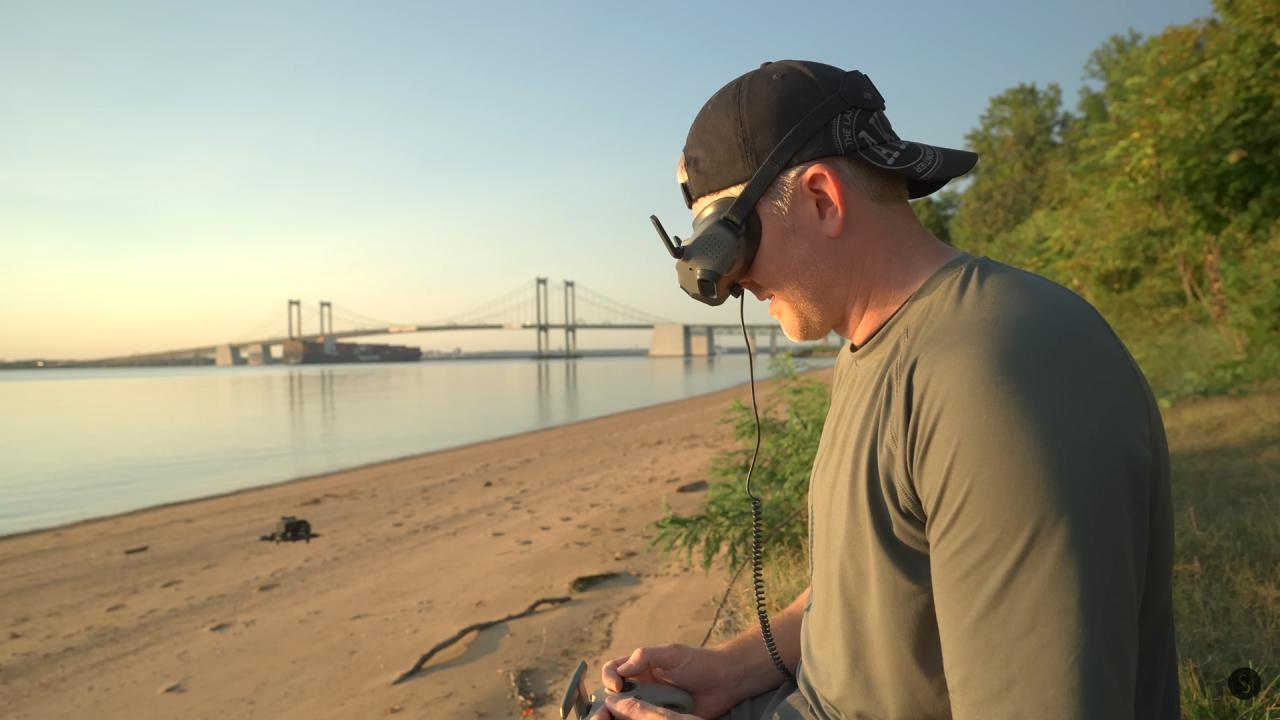Drone: (245, 503, 334, 557)
